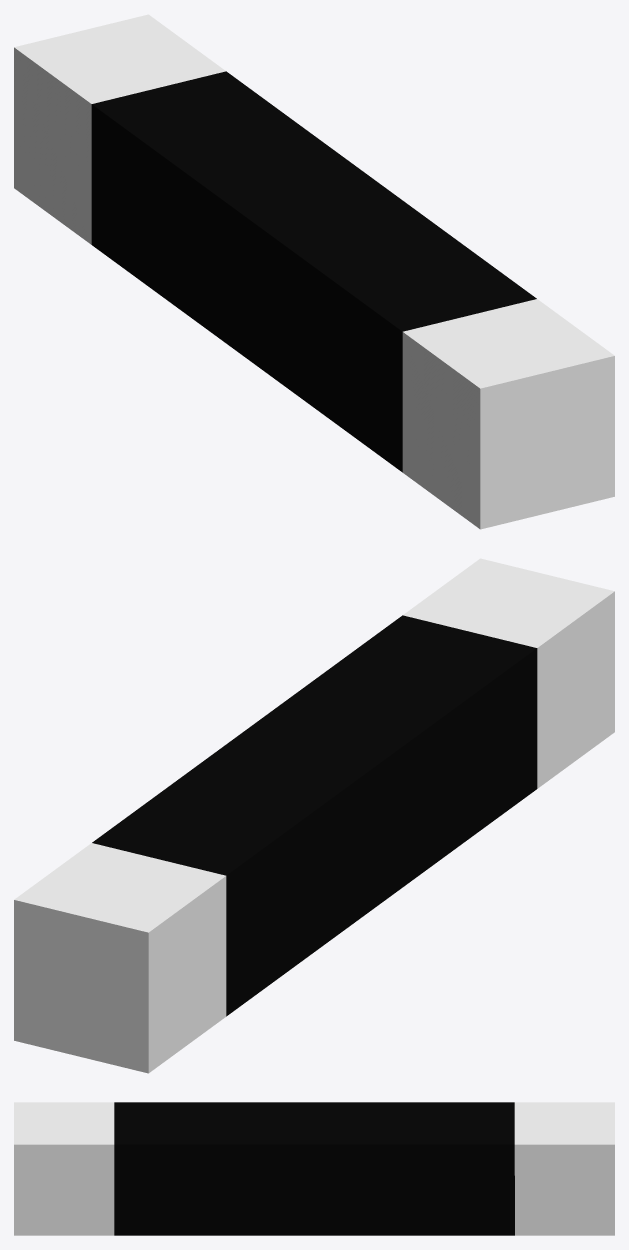
Rendered from arrow.FBX.
The picture shows the model from 3 angles, top to bottom: view 1: azimuth 30°, elevation 25°; view 2: azimuth 150°, elevation 25°; view 3: azimuth 270°, elevation 25°; orthographic projection. The views are drawn at different scales.
Parts seen in each view (by area): view 1: arrow; view 2: arrow; view 3: arrow.
Part boxes in pixels (<box>): arrow: <box>14,14,614,529</box>; arrow: <box>14,558,614,1073</box>; arrow: <box>14,1102,614,1235</box>.
Bounding box in the file's own units: 0.1 × 0.1 × 0.6.
